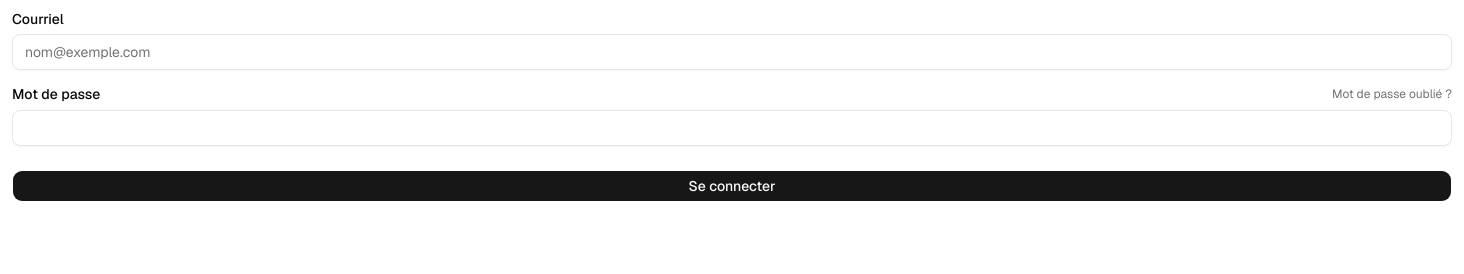
Test: LoginForm › affiche des erreurs de validation quand le formulaire est soumis vide
Click the button "Se connecter" at (732, 186), box [12,170,1452,202]
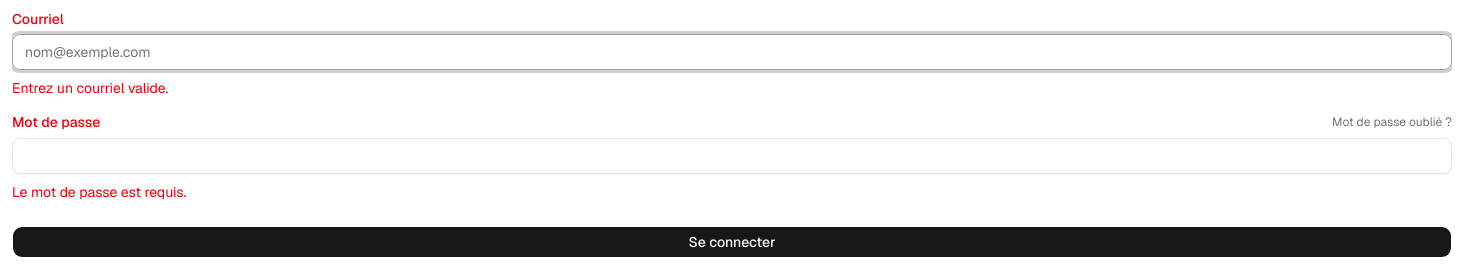
Check: the text "Entrez un courriel valide." is shown, box [12,79,168,97]
Check: the text "Le mot de passe est requis." is shown, box [12,183,186,201]
